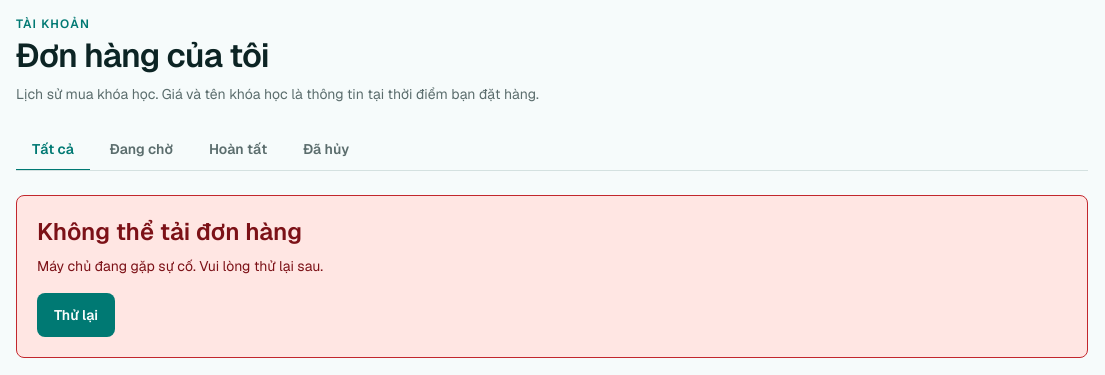
Test: OrdersHistory › shows an error with a working retry
The width and height of the screenshot is (1105, 375).
Check: the message shows "Không thể tải đơn hàng", box [37,216,302,247]
Step 1. Click the button "Thử lại" → {"x": 76, "y": 315}, box [37,293,115,337]
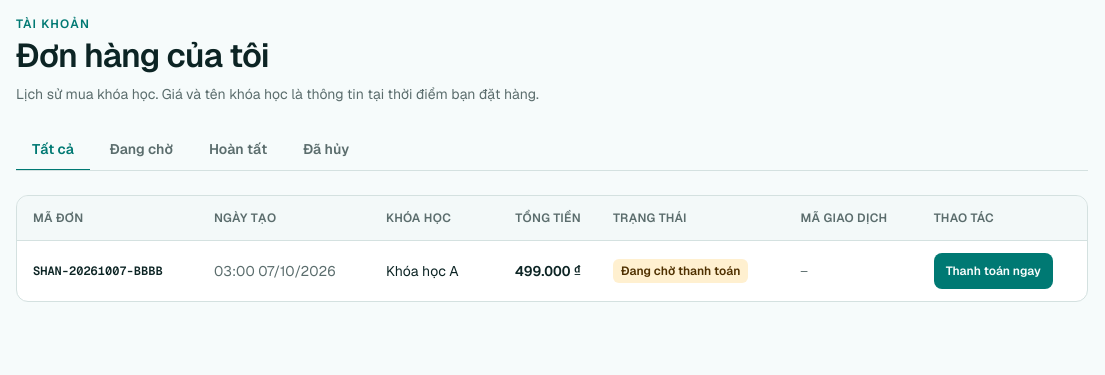
Check: the text "SHAN-20261007-BBBB" is shown, box [17,240,198,301]
